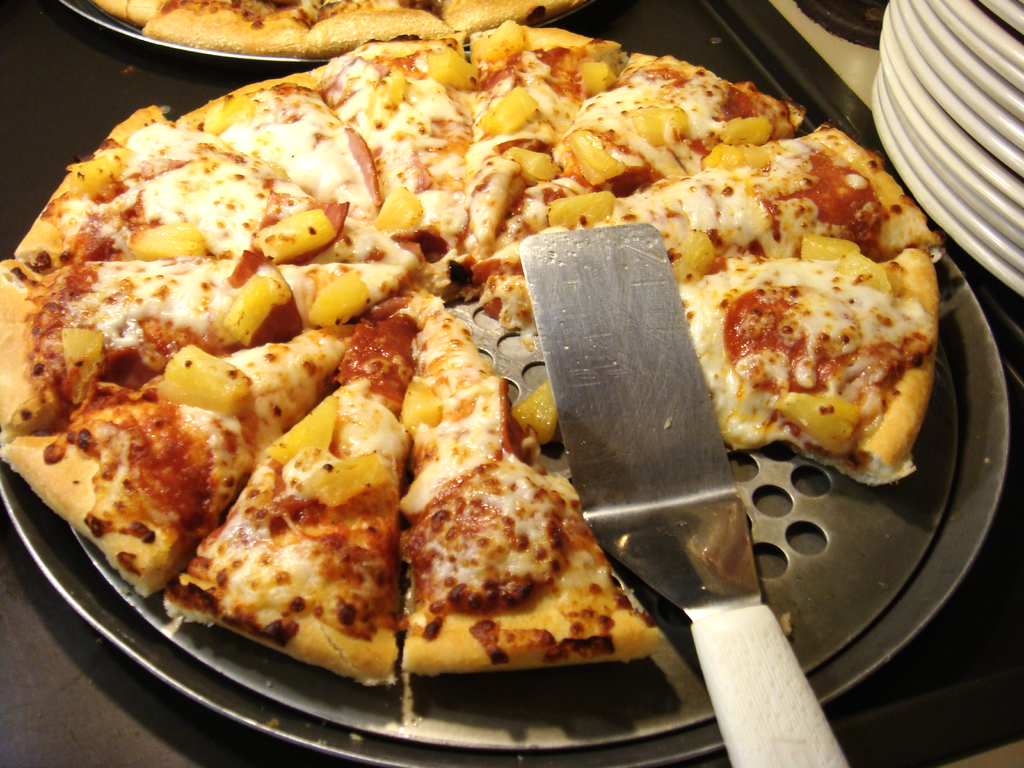Pizza: (0, 21, 945, 669), (90, 0, 591, 56)
